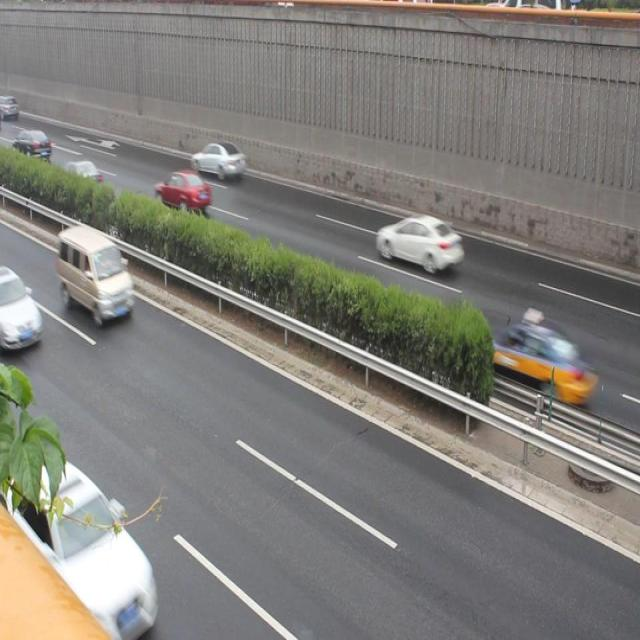car: (10, 466, 156, 627), (466, 322, 596, 406), (376, 214, 463, 272), (0, 268, 42, 352), (156, 168, 210, 218), (191, 140, 246, 185), (55, 159, 102, 200)
truck: (59, 229, 135, 321)
